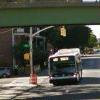Bus: (47, 46, 84, 84)
